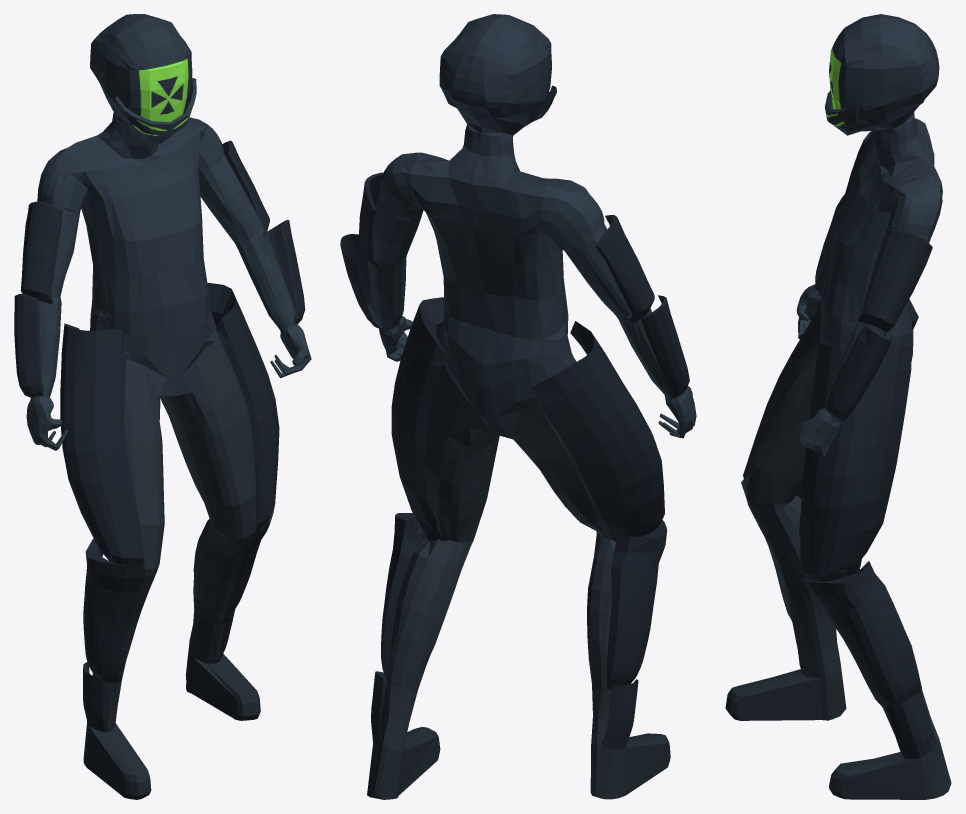
File: Bastion_Stun_Recover_000001.obj
3 renders of one model, left to right at view 1: azimuth 30°, elevation 25°; view 2: azimuth 150°, elevation 25°; view 3: azimuth 270°, elevation 25°, orthographic. The views are drawn at different scales.
Parts seen in each view (by area): view 1: Cube.002; view 2: Cube.002; view 3: Cube.002.
Part boxes in pixels (bbox=[...]): Cube.002: bbox=[14, 14, 311, 799]; Cube.002: bbox=[340, 14, 696, 799]; Cube.002: bbox=[725, 14, 951, 799].
Size of the model in its own units: 1.62 by 3.75 by 1.04.
